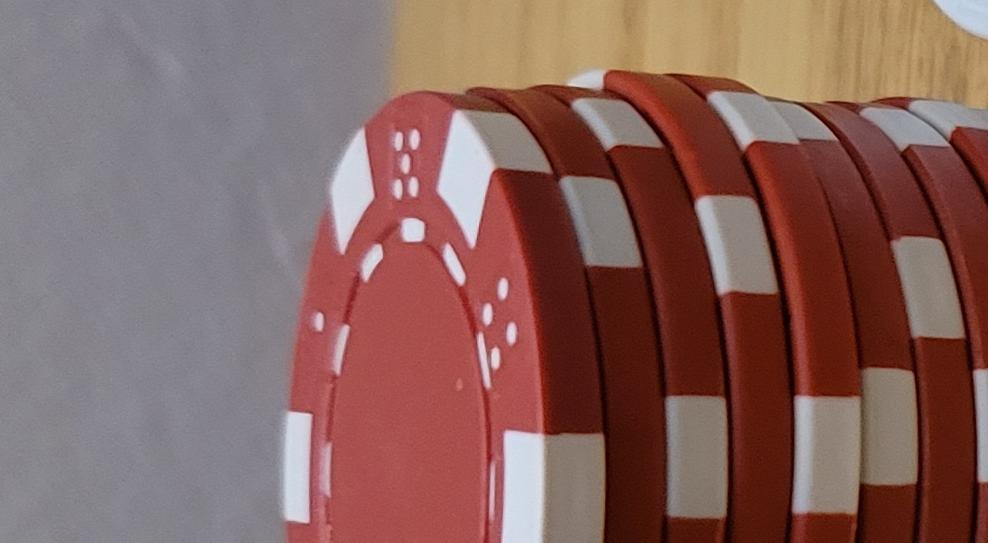Chip: (1, 326, 601, 543)
